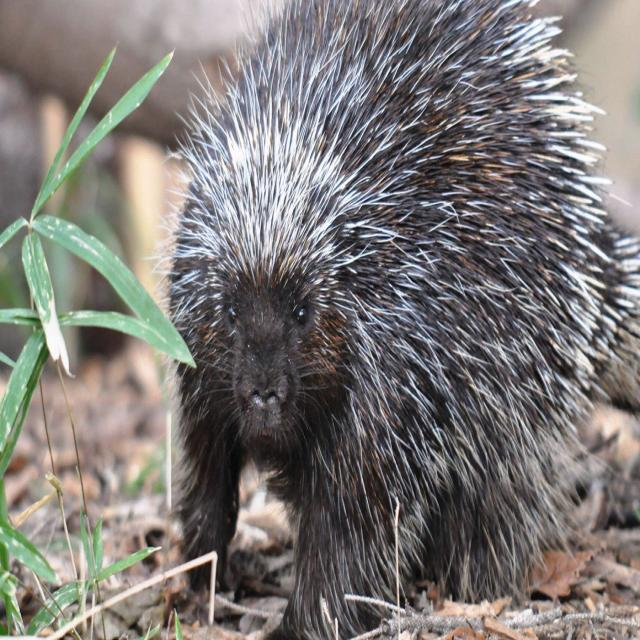porcupine: (166, 0, 640, 639)
